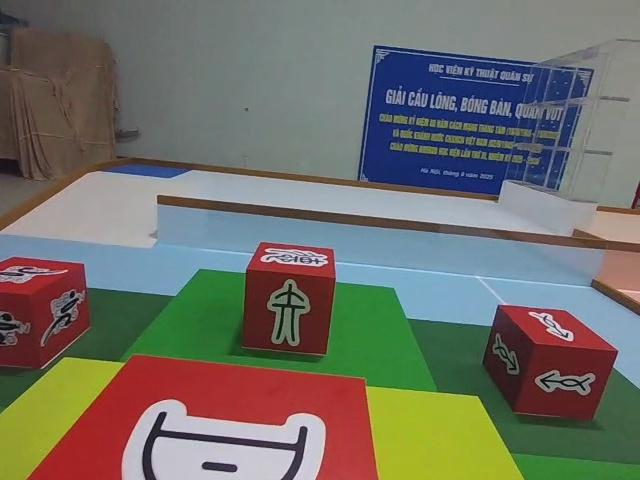R1: (0, 245, 90, 376)
R2 Fake: (242, 238, 338, 361)
R2 Real: (33, 337, 377, 480), (478, 302, 621, 424)
